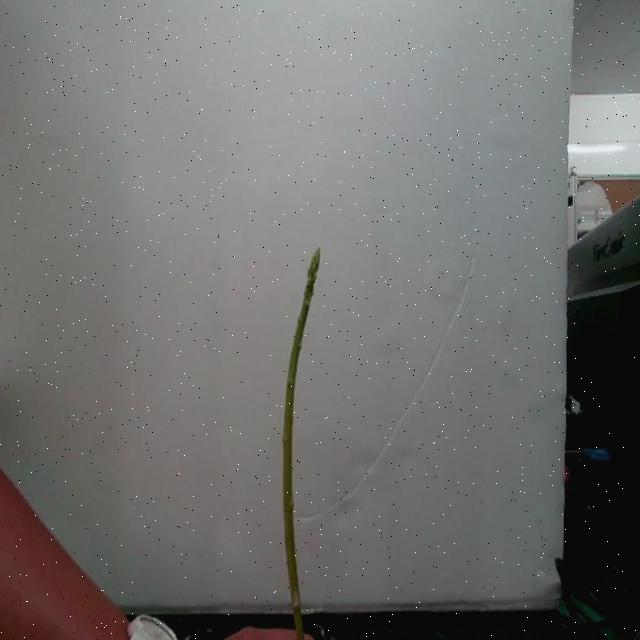aspargus: (282, 250, 321, 640)
